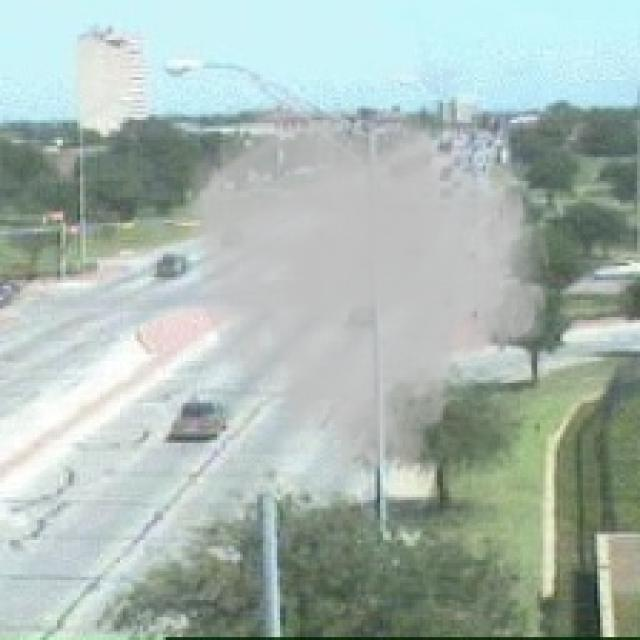smoke: (180, 92, 554, 497)
